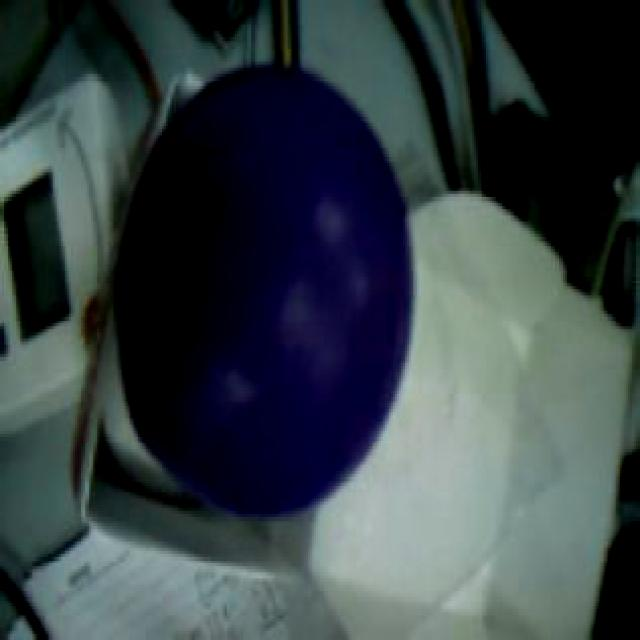BallPurple: (117, 67, 411, 517)
